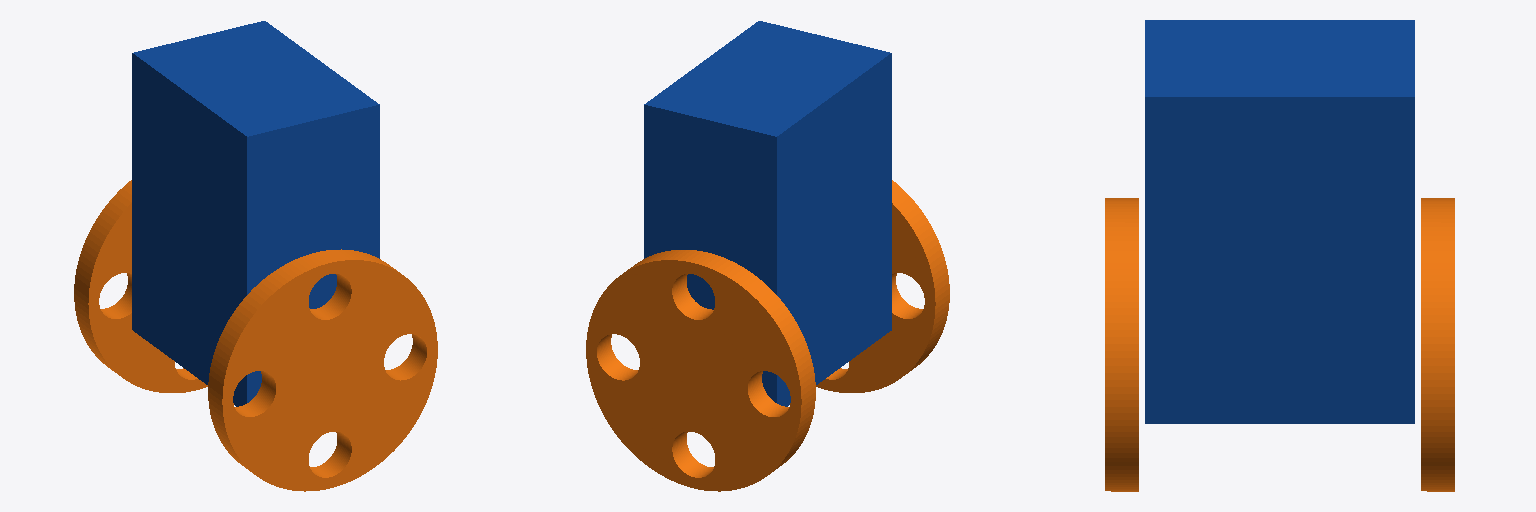
robot.urdf — platform:
<?xml version="1.0" ?>
<robot name="platform">

  <material name="industrial-blue">
    <color rgba="0.11372549019607843 0.34509803921568627 0.6549019607843137 1" />
  </material>

  <material name="arches-blue">
    <color rgba="0.0 0.6235294117647059 0.8313725490196079 1" />
  </material>

  <material name = "heritage-orange">
    <color rgba = "0.96078431 0.50980392 0.11764706 1" />
  </material>

  <link name="chassis">
    <visual>
      <origin rpy="0 0 0" xyz="0 0 0"/>
      <geometry>
  			<box size="0.4 0.6 0.8" />
      </geometry>
      <material name = "industrial-blue"/>
    </visual>
    <collision>
      <origin rpy="0 0 0" xyz="0 0 0"/>
      <geometry>
  			<box size="0.4 0.6 0.8" />
      </geometry>
    </collision>
    <inertial>
      <origin rpy="0 0 0" xyz="0 0 0"/>
      <mass value="12.0"/>
      <inertia ixx="1.0" ixy="0" ixz="0" iyy="0.8" iyz="0" izz="0.52"/>
    </inertial>
  </link>

  <link name="right_wheel">
    <visual>
      <origin rpy="0 0 0" xyz="0 0 0"/>
      <geometry>
  			<mesh filename="wheel.stl" scale="0.325 0.325 0.075"/>
      </geometry>
      <material name = "heritage-orange"/>
    </visual>
    <collision>
      <origin rpy="0 0 0" xyz="0 0 0"/>
      <geometry>
  			<cylinder radius="0.325" length="0.075" />
      </geometry>
    </collision>
    <inertial>
      <origin rpy="0 0 0" xyz="0 0 0"/>
      <mass value="1.2"/>
      <inertia ixx="0.03225" ixy="0" ixz="0" iyy="0.03225" iyz="0" izz="0.063375"/>
    </inertial>
  </link>

  <link name="left_wheel">
    <visual>
      <origin rpy="0 0 0" xyz="0 0 0"/>
      <geometry>
  			<mesh filename="wheel.stl" scale="0.325 0.325 0.075"/>
      </geometry>
      <material name = "heritage-orange"/>
    </visual>
    <collision>
      <origin rpy="0 0 0" xyz="0 0 0"/>
      <geometry>
  			<cylinder radius="0.325" length="0.075" />
      </geometry>
    </collision>
    <inertial>
      <origin rpy="0 0 0" xyz="0 0 0"/>
      <mass value="1.2"/>
      <inertia ixx="0.03225" ixy="0" ixz="0" iyy="0.03225" iyz="0" izz="0.063375"/>
    </inertial>
  </link>

  <joint name="chassis_to_left_wheel" type="continuous">
		<parent link = "chassis" />
		<child link = "left_wheel" />
		<origin rpy="1.57 0 0" xyz = "0 0.35 -0.3" />
		<axis xyz = "0 0 -1" />
		<limit effort="1000" velocity="1000"/>
	</joint>

  <joint name="chassis_to_right_wheel" type="continuous">
		<parent link = "chassis" />
		<child link = "right_wheel" />
		<origin rpy="1.57 0 0" xyz="0 -0.35 -0.3" />
		<axis xyz="0 0 -1" />
		<limit effort="1000" velocity="1000"/>
	</joint>

</robot>

--- What the picture shows (computed from the rendered views, not written in the file) ---
Views: 3 orthographic renders of the robot side by side, from view 1: azimuth 30°, elevation 25°; view 2: azimuth 150°, elevation 25°; view 3: azimuth 270°, elevation 25°.
Robot: platform — 3 links, 2 joints (2 continuous); root link chassis; default pose: all joints at 0.
Links seen in each view (by area): view 1: chassis, right_wheel, left_wheel; view 2: chassis, left_wheel, right_wheel; view 3: chassis, right_wheel, left_wheel.
Link boxes in pixels (x1,y1,x2,y2): chassis: (132,21,379,406); right_wheel: (208,249,437,491); left_wheel: (74,180,207,392); chassis: (644,21,891,406); left_wheel: (586,250,815,491); right_wheel: (816,180,949,392); chassis: (1145,20,1414,423); right_wheel: (1105,198,1138,491); left_wheel: (1421,198,1454,491).
Bounding box of the posed robot: 0.65 × 0.7755 × 1.02 m (x, y, z).
2 mesh visuals loaded from 1 distinct referenced files (1 binary STL).